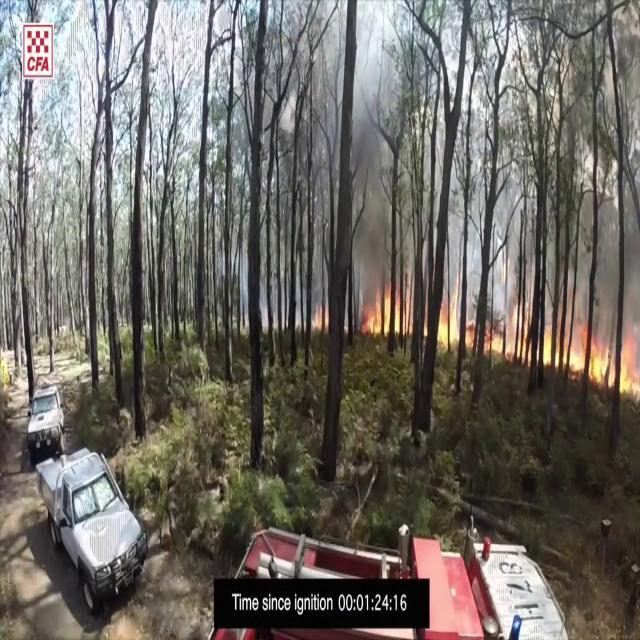Fire: (564, 312, 640, 404), (363, 272, 405, 344), (436, 274, 464, 354)
Smoke: (330, 63, 408, 301)
